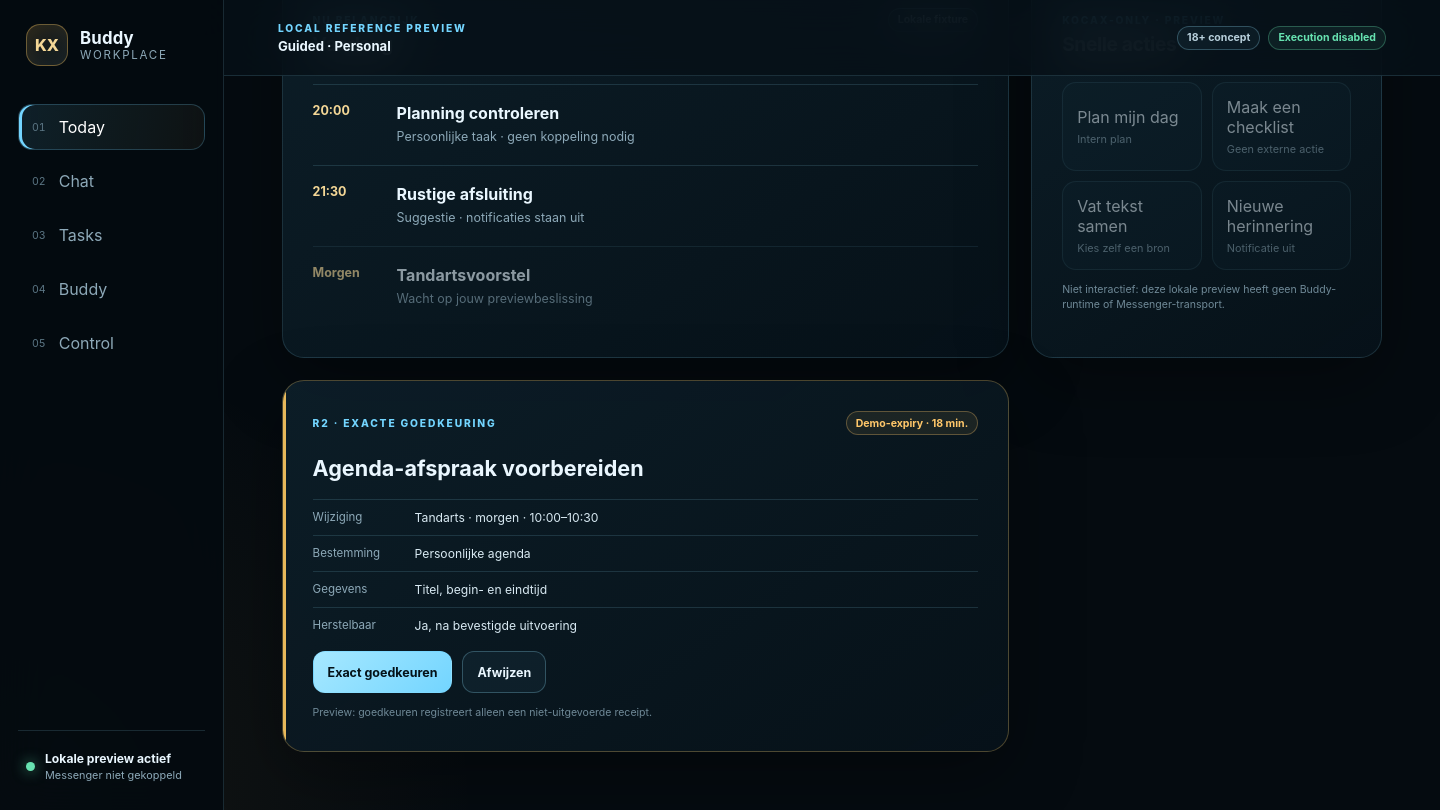
Test: Buddy Workplace preview › keeps approval in non-executing reference mode
(page scrolled)
What coordinates should you click on to do the following:
click the button "Exact goedkeuren"
I would click on:
 (382, 672)
Its box is [313,651,452,693].
(page scrolled)
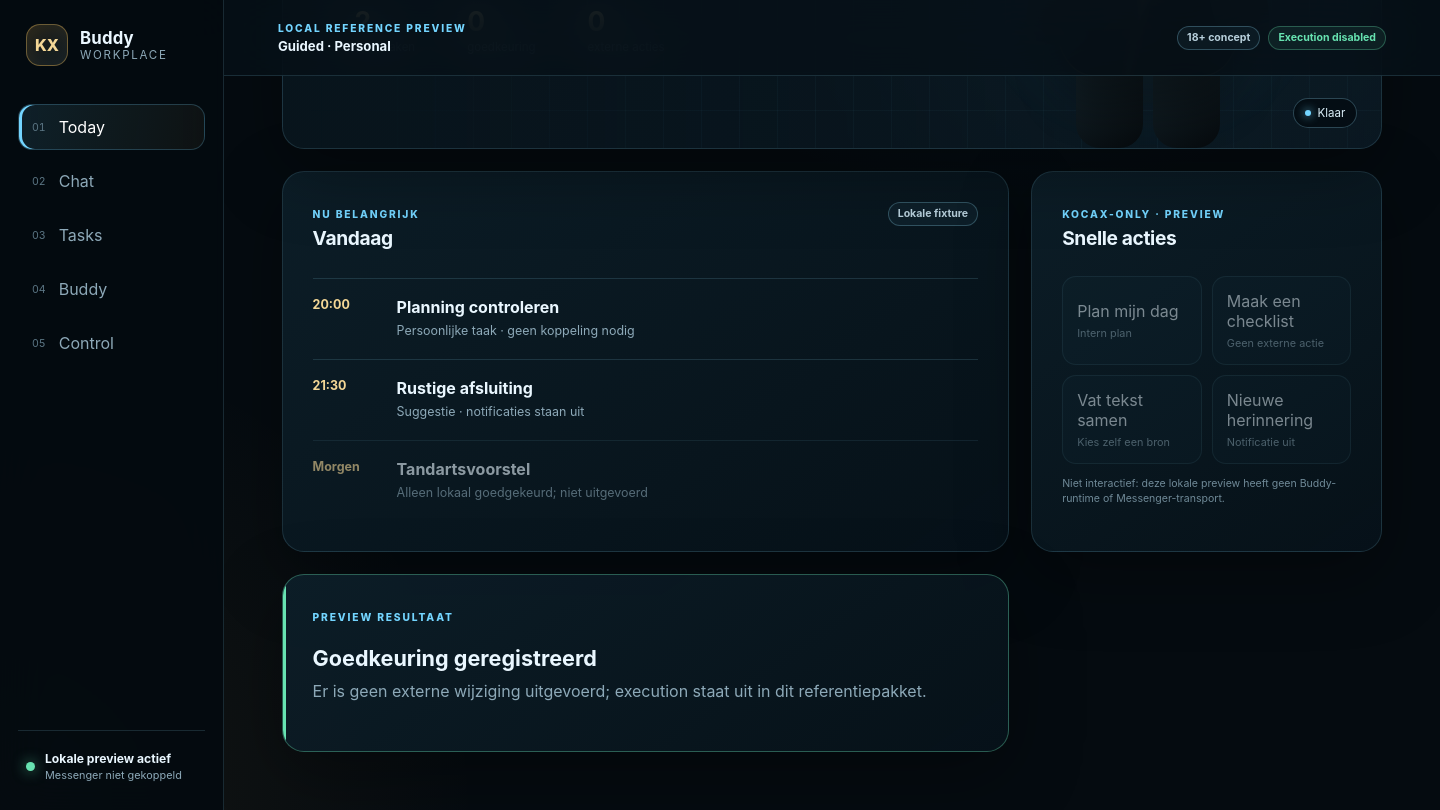
Now the text "geen externe wijziging uitgevoerd" is shown, box [313,681,927,701]
